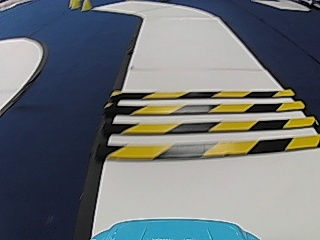bump: (132, 90, 274, 158)
